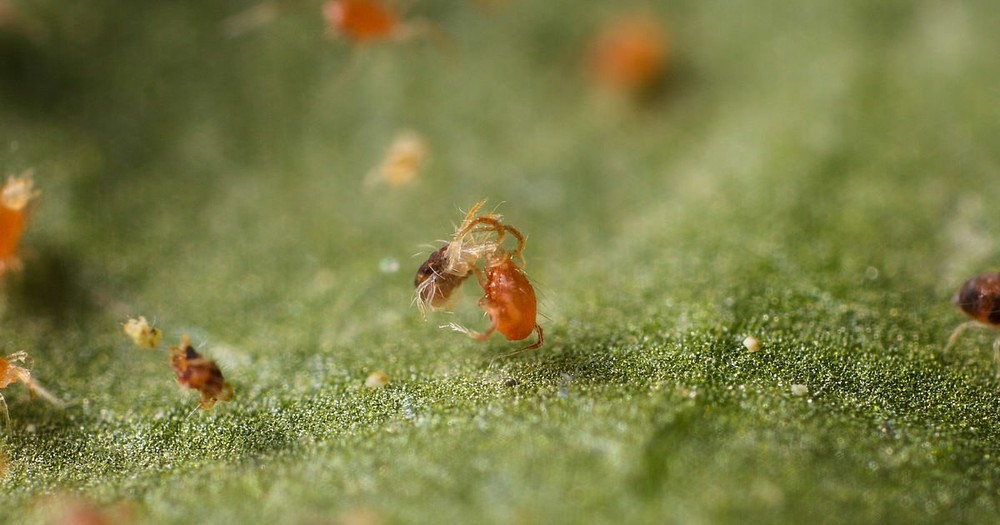Aracnido Rojo: (462, 223, 570, 366), (397, 203, 494, 327)
